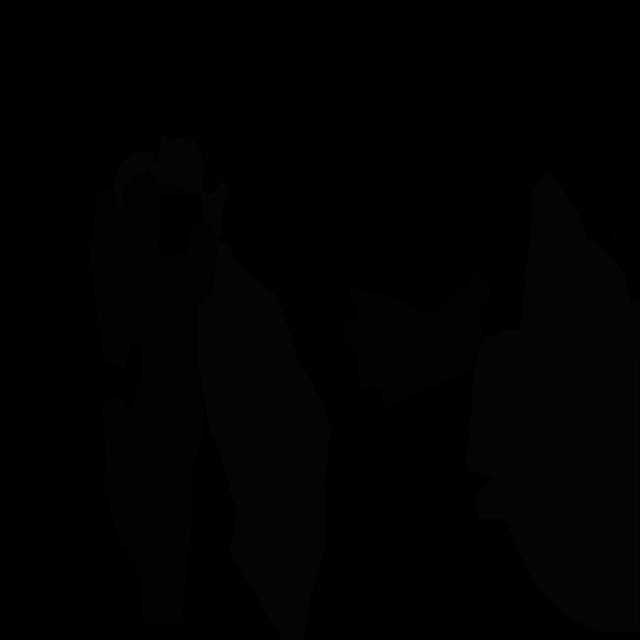cardboard: (101, 220, 218, 627), (343, 267, 492, 410), (89, 172, 192, 369)
rigid_plastic: (608, 179, 640, 304)
soft_plastic: (464, 171, 640, 631), (196, 240, 330, 640), (112, 135, 226, 239)
